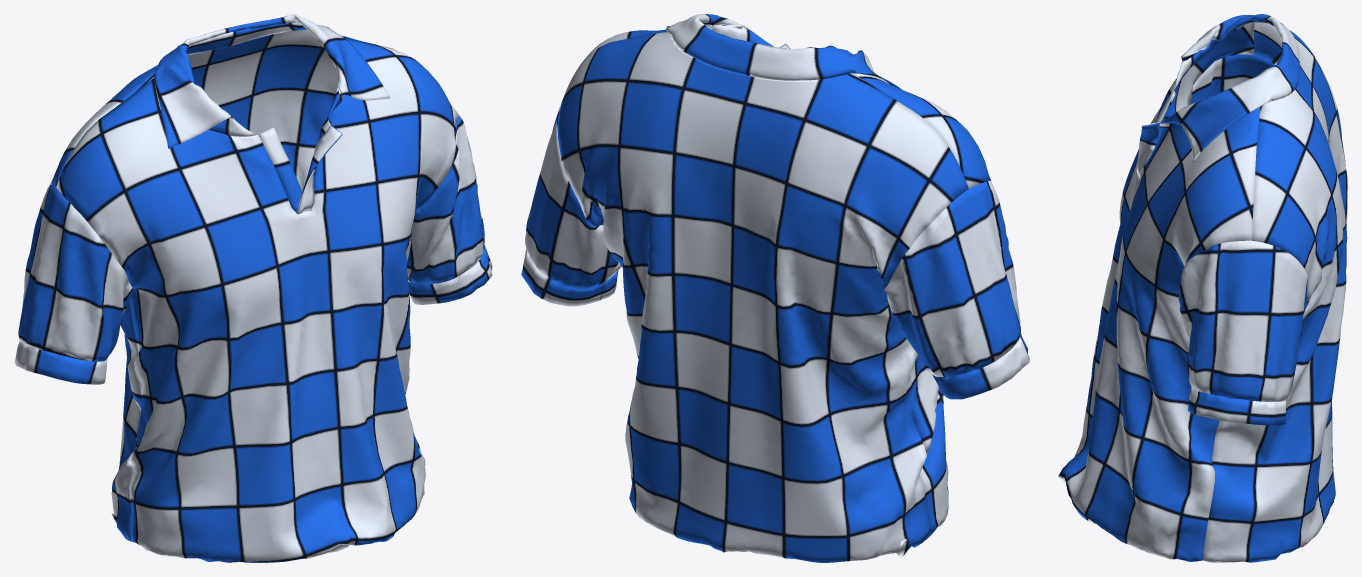
File: checker.glb
3 views of the same model, side by side, from view 1: azimuth 30°, elevation 25°; view 2: azimuth 150°, elevation 25°; view 3: azimuth 270°, elevation 25° (orthographic). The views are drawn at different scales.
Visible parts, largest first — view 1: Relaxed_Polo_223; view 2: Relaxed_Polo_223; view 3: Relaxed_Polo_223.
Boxes of the visible parts, <box> form: Relaxed_Polo_223: <box>14,14,492,562</box>; Relaxed_Polo_223: <box>521,14,1029,562</box>; Relaxed_Polo_223: <box>1058,14,1347,562</box>.
Bounding box in the file's own units: 2 × 1.95 × 1.09.
Materials: 1 (1 with a texture image).
